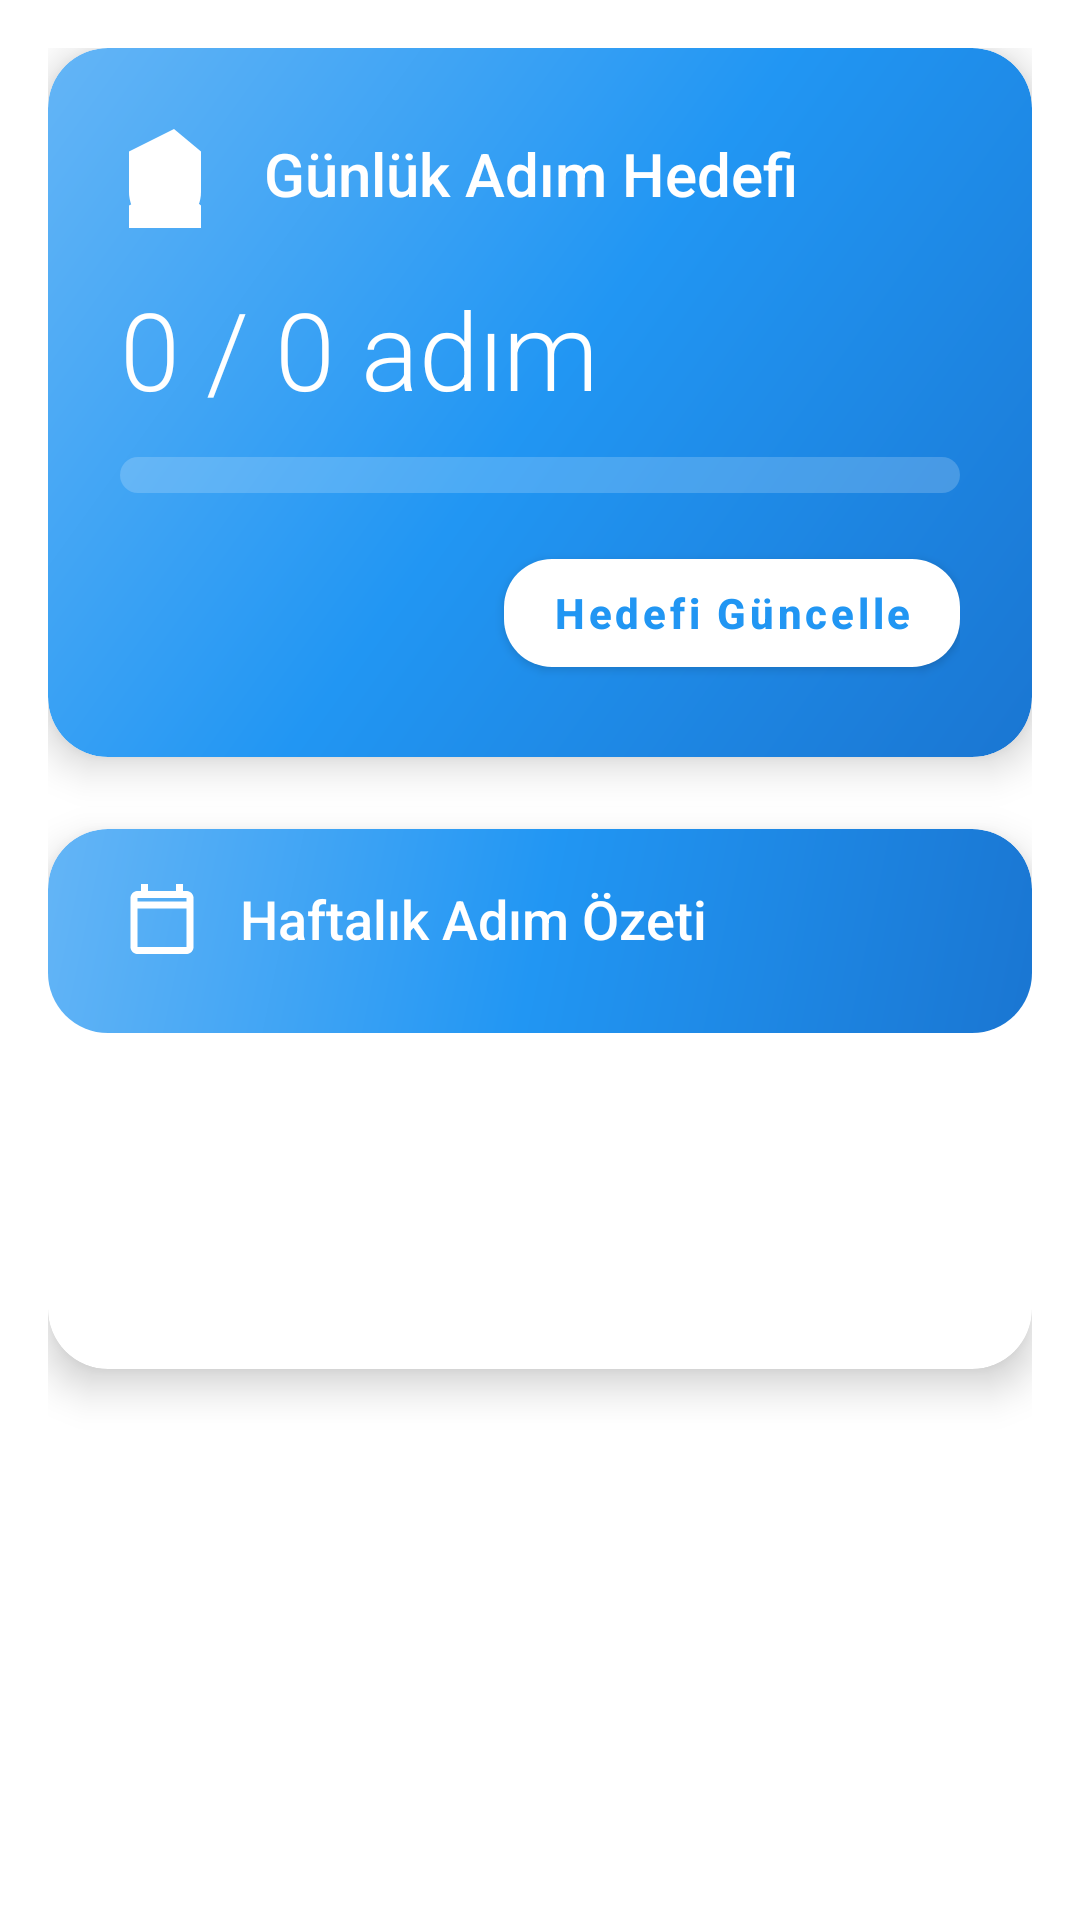

Icons on this 1080px x 1920px Android screen, each with the point to tap as (x=x, y=y):
calendar: (x=162, y=919)
